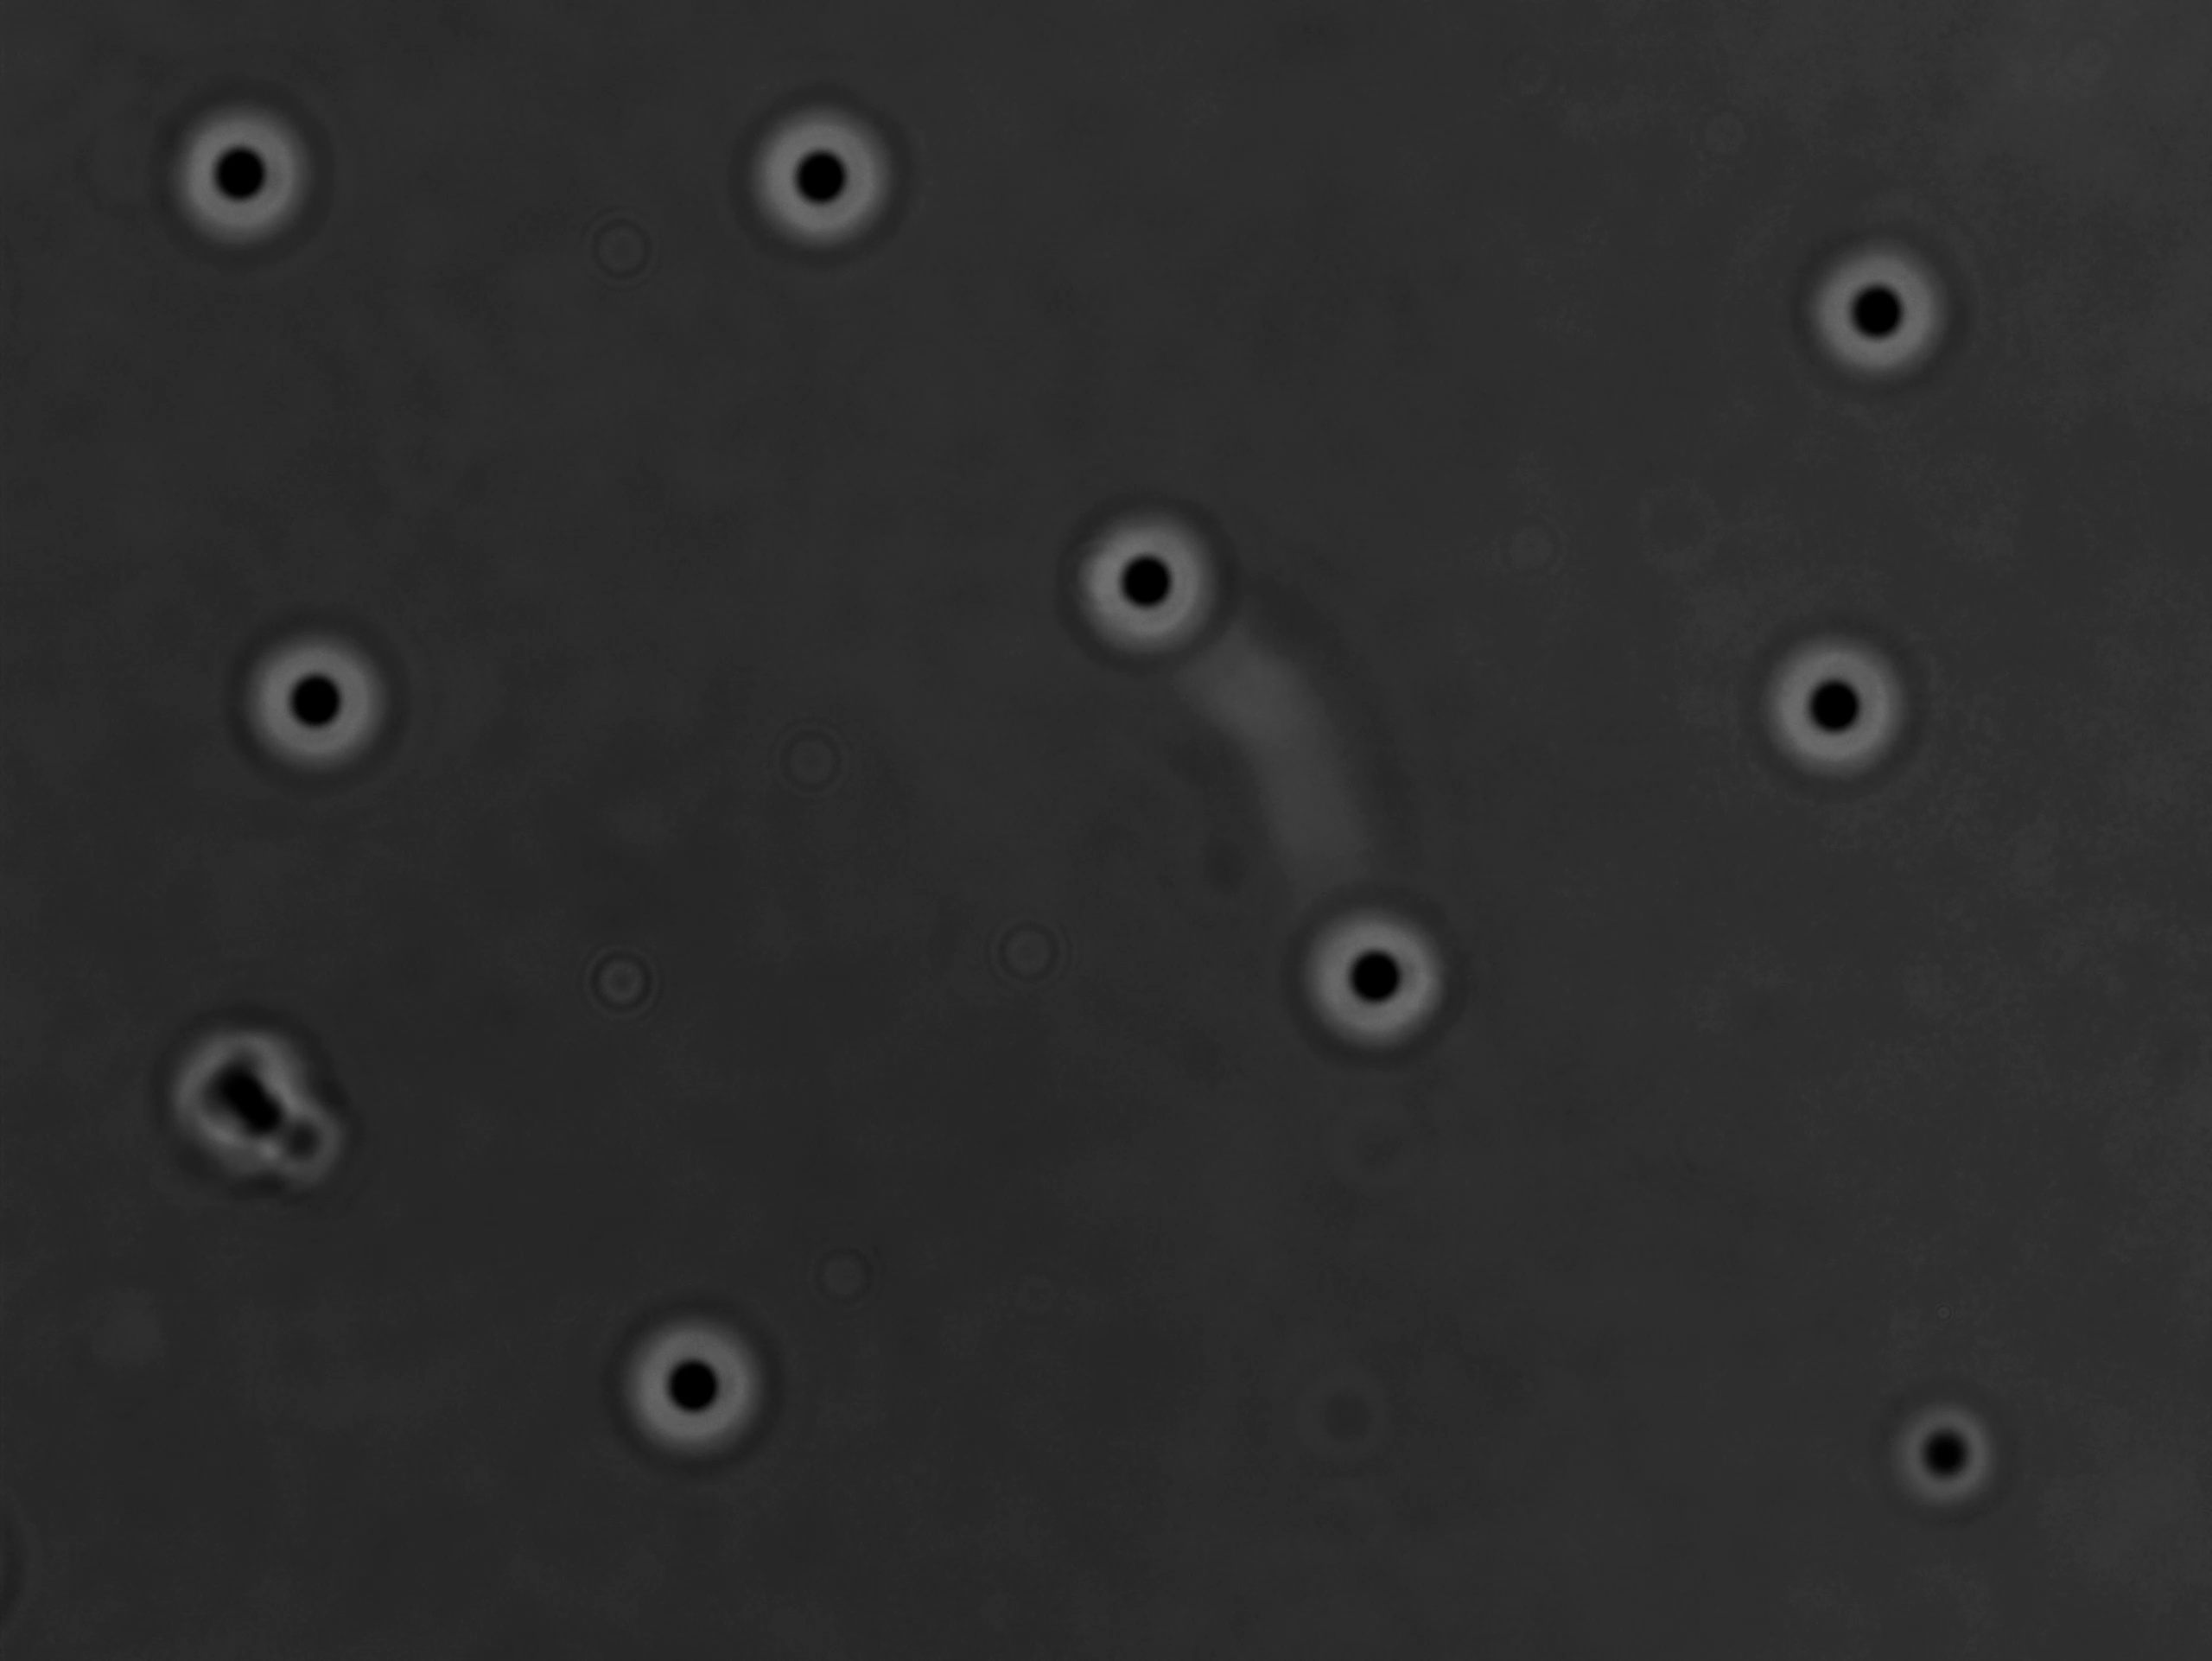depth:-40: (1059, 476, 1256, 670), (595, 1281, 797, 1462), (1277, 883, 1474, 1063), (216, 600, 399, 787), (1743, 619, 1929, 801), (157, 96, 309, 281), (736, 94, 907, 255), (1792, 232, 1954, 394)
